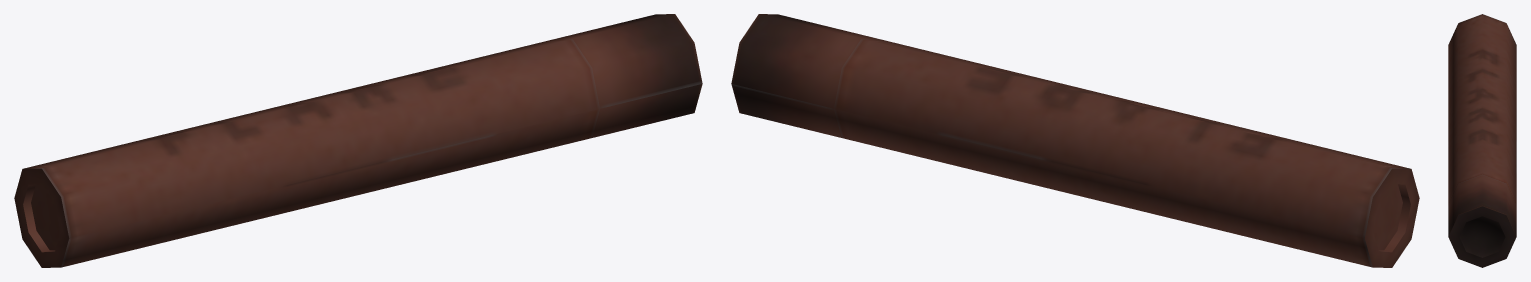
File: flare_mx_1_used.obj
3 renders of one model, left to right at view 1: azimuth 30°, elevation 25°; view 2: azimuth 150°, elevation 25°; view 3: azimuth 270°, elevation 25°, orthographic. The views are drawn at different scales.
Parts seen in each view (by area): view 1: flare_mx_1_used; view 2: flare_mx_1_used; view 3: flare_mx_1_used.
Part boxes in pixels (x1=…): flare_mx_1_used: x1=14, y1=14, x2=702, y2=267; flare_mx_1_used: x1=731, y1=14, x2=1419, y2=267; flare_mx_1_used: x1=1448, y1=14, x2=1516, y2=267.
Size of the model in its own units: 0.2 by 0.03 by 0.03.
